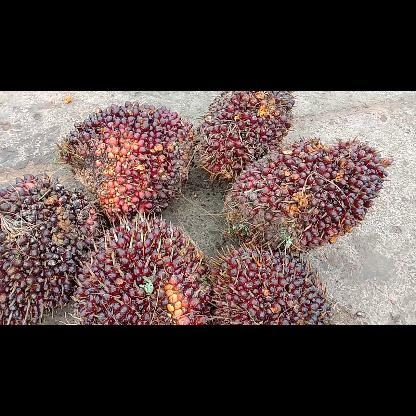Kurang masak: (216, 135, 394, 253), (54, 99, 200, 223), (0, 169, 109, 325), (70, 210, 216, 324), (206, 240, 340, 324), (195, 92, 297, 182)
